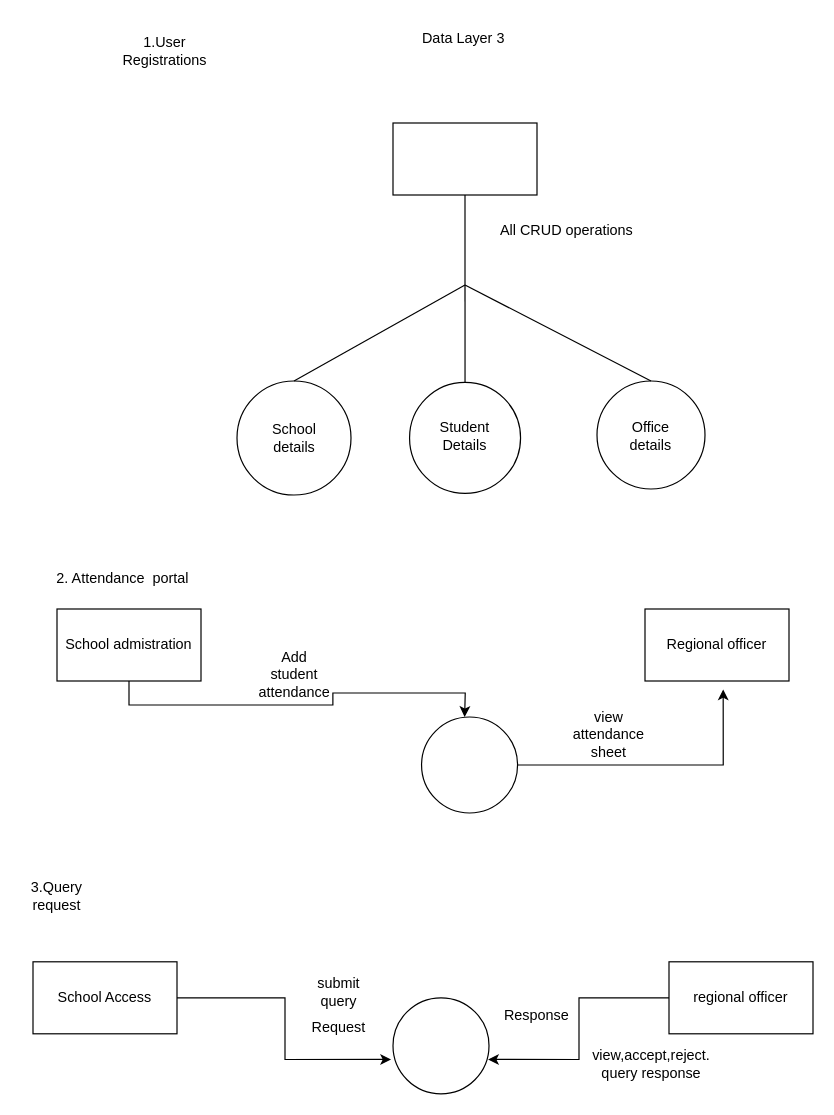
Some shapes in this 834 by 1115 pixel diagram are drawn without their labels. Here are the shapes that lost their labels. From the top down, the centre of each, then its label:
At (464,158): "System Access".
At (469,764): "Attendance details viewer".
At (440,1045): "Query response".
